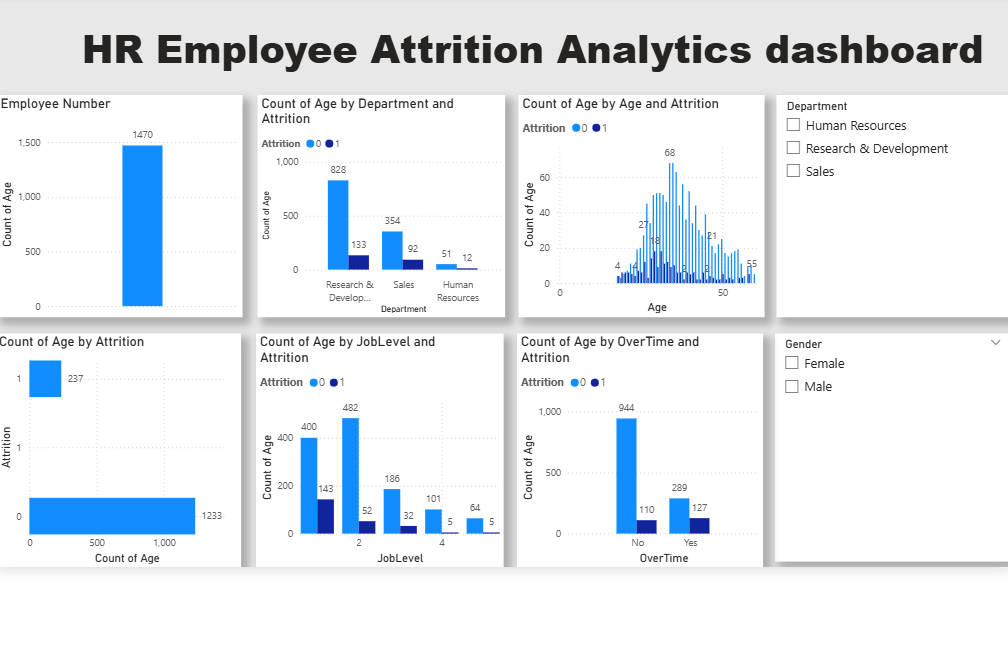

What the dashboard file says about the page in this screenshot:
{"tool":"powerbi","page":{"name":"Page 1","canvas":[1280,720],"ordinal":0},"visuals":[{"type":"cardVisual","box":[0,168.2,279.7,228.7],"z":0},{"type":"clusteredColumnChart","title":"Employee Number","fields":{"Y":["CountNonNull(cleaned_hr_data.Age)"]},"box":[1.2,124.7,309.9,279.7],"z":1000},{"type":"clusteredBarChart","box":[11.3,438.4,268.3,281.6],"z":2000},{"type":"clusteredBarChart","fields":{"Category":["cleaned_hr_data.Attrition"],"Y":["CountNonNull(cleaned_hr_data.Age)"]},"box":[0.6,425.2,309.9,294.8],"z":3000},{"type":"clusteredColumnChart","fields":{"Series":["cleaned_hr_data.Attrition"],"Y":["CountNonNull(cleaned_hr_data.Age)"],"Category":["cleaned_hr_data.JobLevel"]},"box":[329.4,425.2,311.8,294.8],"z":4000},{"type":"clusteredColumnChart","fields":{"Category":["cleaned_hr_data.Department"],"Series":["cleaned_hr_data.Attrition"],"Y":["CountNonNull(cleaned_hr_data.Age)"]},"box":[330,124.7,311.8,279.7],"z":5000},{"type":"clusteredColumnChart","fields":{"Series":["cleaned_hr_data.Attrition"],"Y":["CountNonNull(cleaned_hr_data.Age)"],"Category":["cleaned_hr_data.Age"]},"box":[658.9,124.7,309.9,279.7],"z":6000},{"type":"slicer","fields":{"Values":["cleaned_hr_data.Department"]},"box":[983.9,124.7,296.7,279.7],"z":7000},{"type":"slicer","fields":{"Values":["cleaned_hr_data.Gender"]},"box":[983.3,425.2,296.7,287.2],"z":8000},{"type":"clusteredColumnChart","fields":{"Category":["cleaned_hr_data.OverTime"],"Series":["cleaned_hr_data.Attrition"],"Y":["CountNonNull(cleaned_hr_data.Age)"]},"box":[658.3,425.2,309.9,294.8],"z":9000},{"type":"textbox","box":[103.9,26.5,1147.1,88.8],"z":10000}]}

Visuals, with their boxes in screenshot pixels (x1, y1, x2, y2):
cardVisual: rect(24, 144, 233, 316)
"Employee Number" clusteredColumnChart: rect(25, 112, 257, 321)
clusteredBarChart: rect(32, 347, 233, 558)
clusteredBarChart - cleaned_hr_data.Attrition x CountNonNull(cleaned_hr_data.Age): rect(24, 337, 256, 558)
clusteredColumnChart - cleaned_hr_data.Attrition x CountNonNull(cleaned_hr_data.Age): rect(270, 337, 504, 558)
clusteredColumnChart - cleaned_hr_data.Department x cleaned_hr_data.Attrition: rect(271, 112, 504, 321)
clusteredColumnChart - cleaned_hr_data.Attrition x CountNonNull(cleaned_hr_data.Age): rect(517, 112, 749, 321)
slicer - cleaned_hr_data.Department: rect(761, 112, 983, 321)
slicer - cleaned_hr_data.Gender: rect(760, 337, 982, 552)
clusteredColumnChart - cleaned_hr_data.OverTime x cleaned_hr_data.Attrition: rect(517, 337, 749, 558)
textbox: rect(101, 38, 961, 105)
